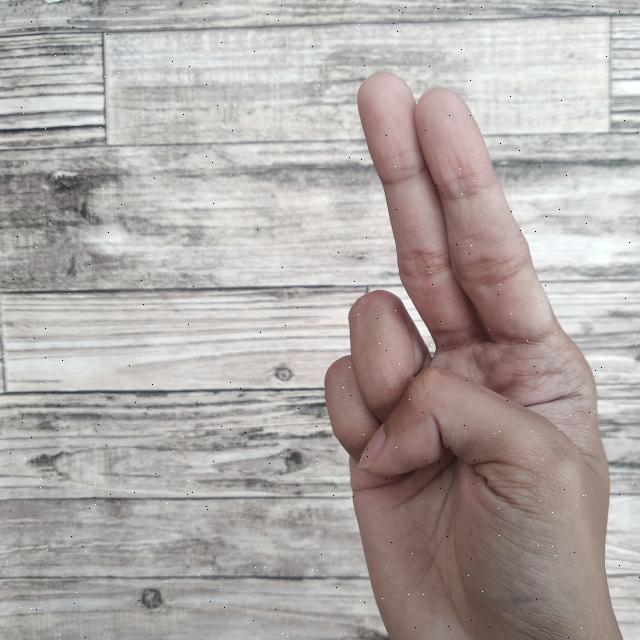U: (318, 64, 620, 640)
